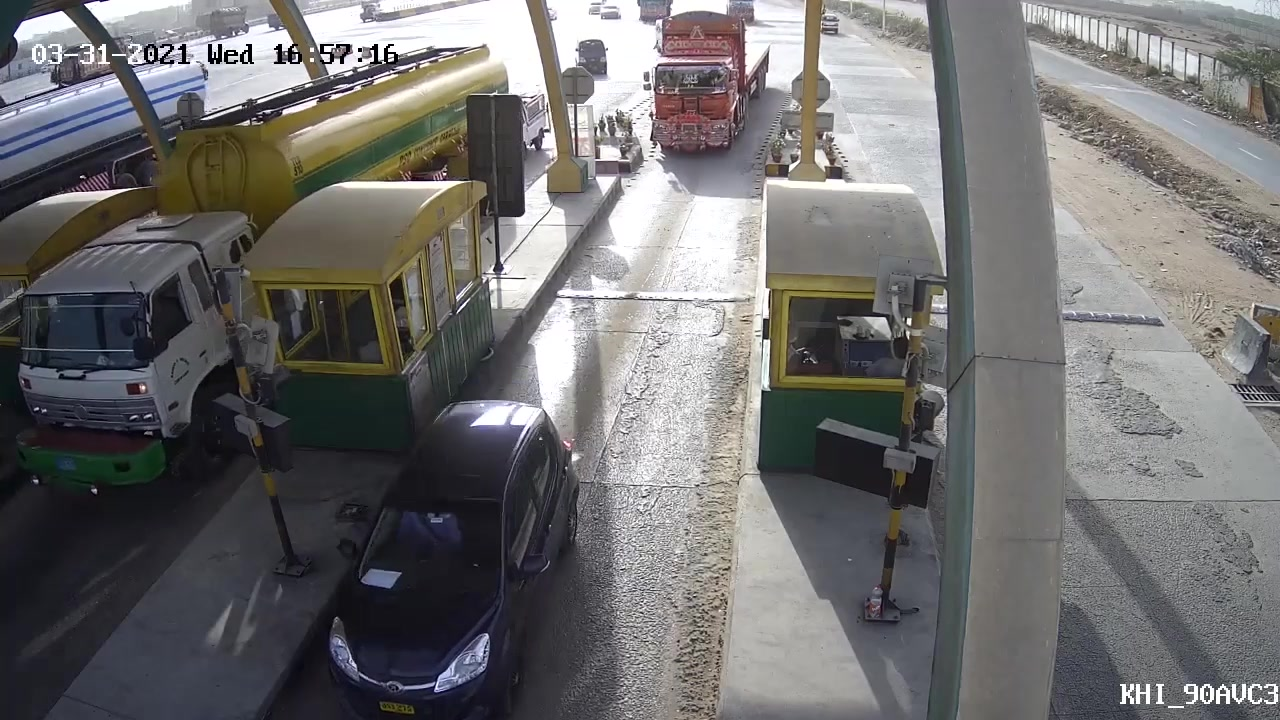F1: (313, 390, 601, 720)
F6: (636, 8, 775, 163)
